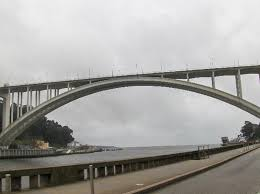arrabida: (0, 65, 259, 147)
